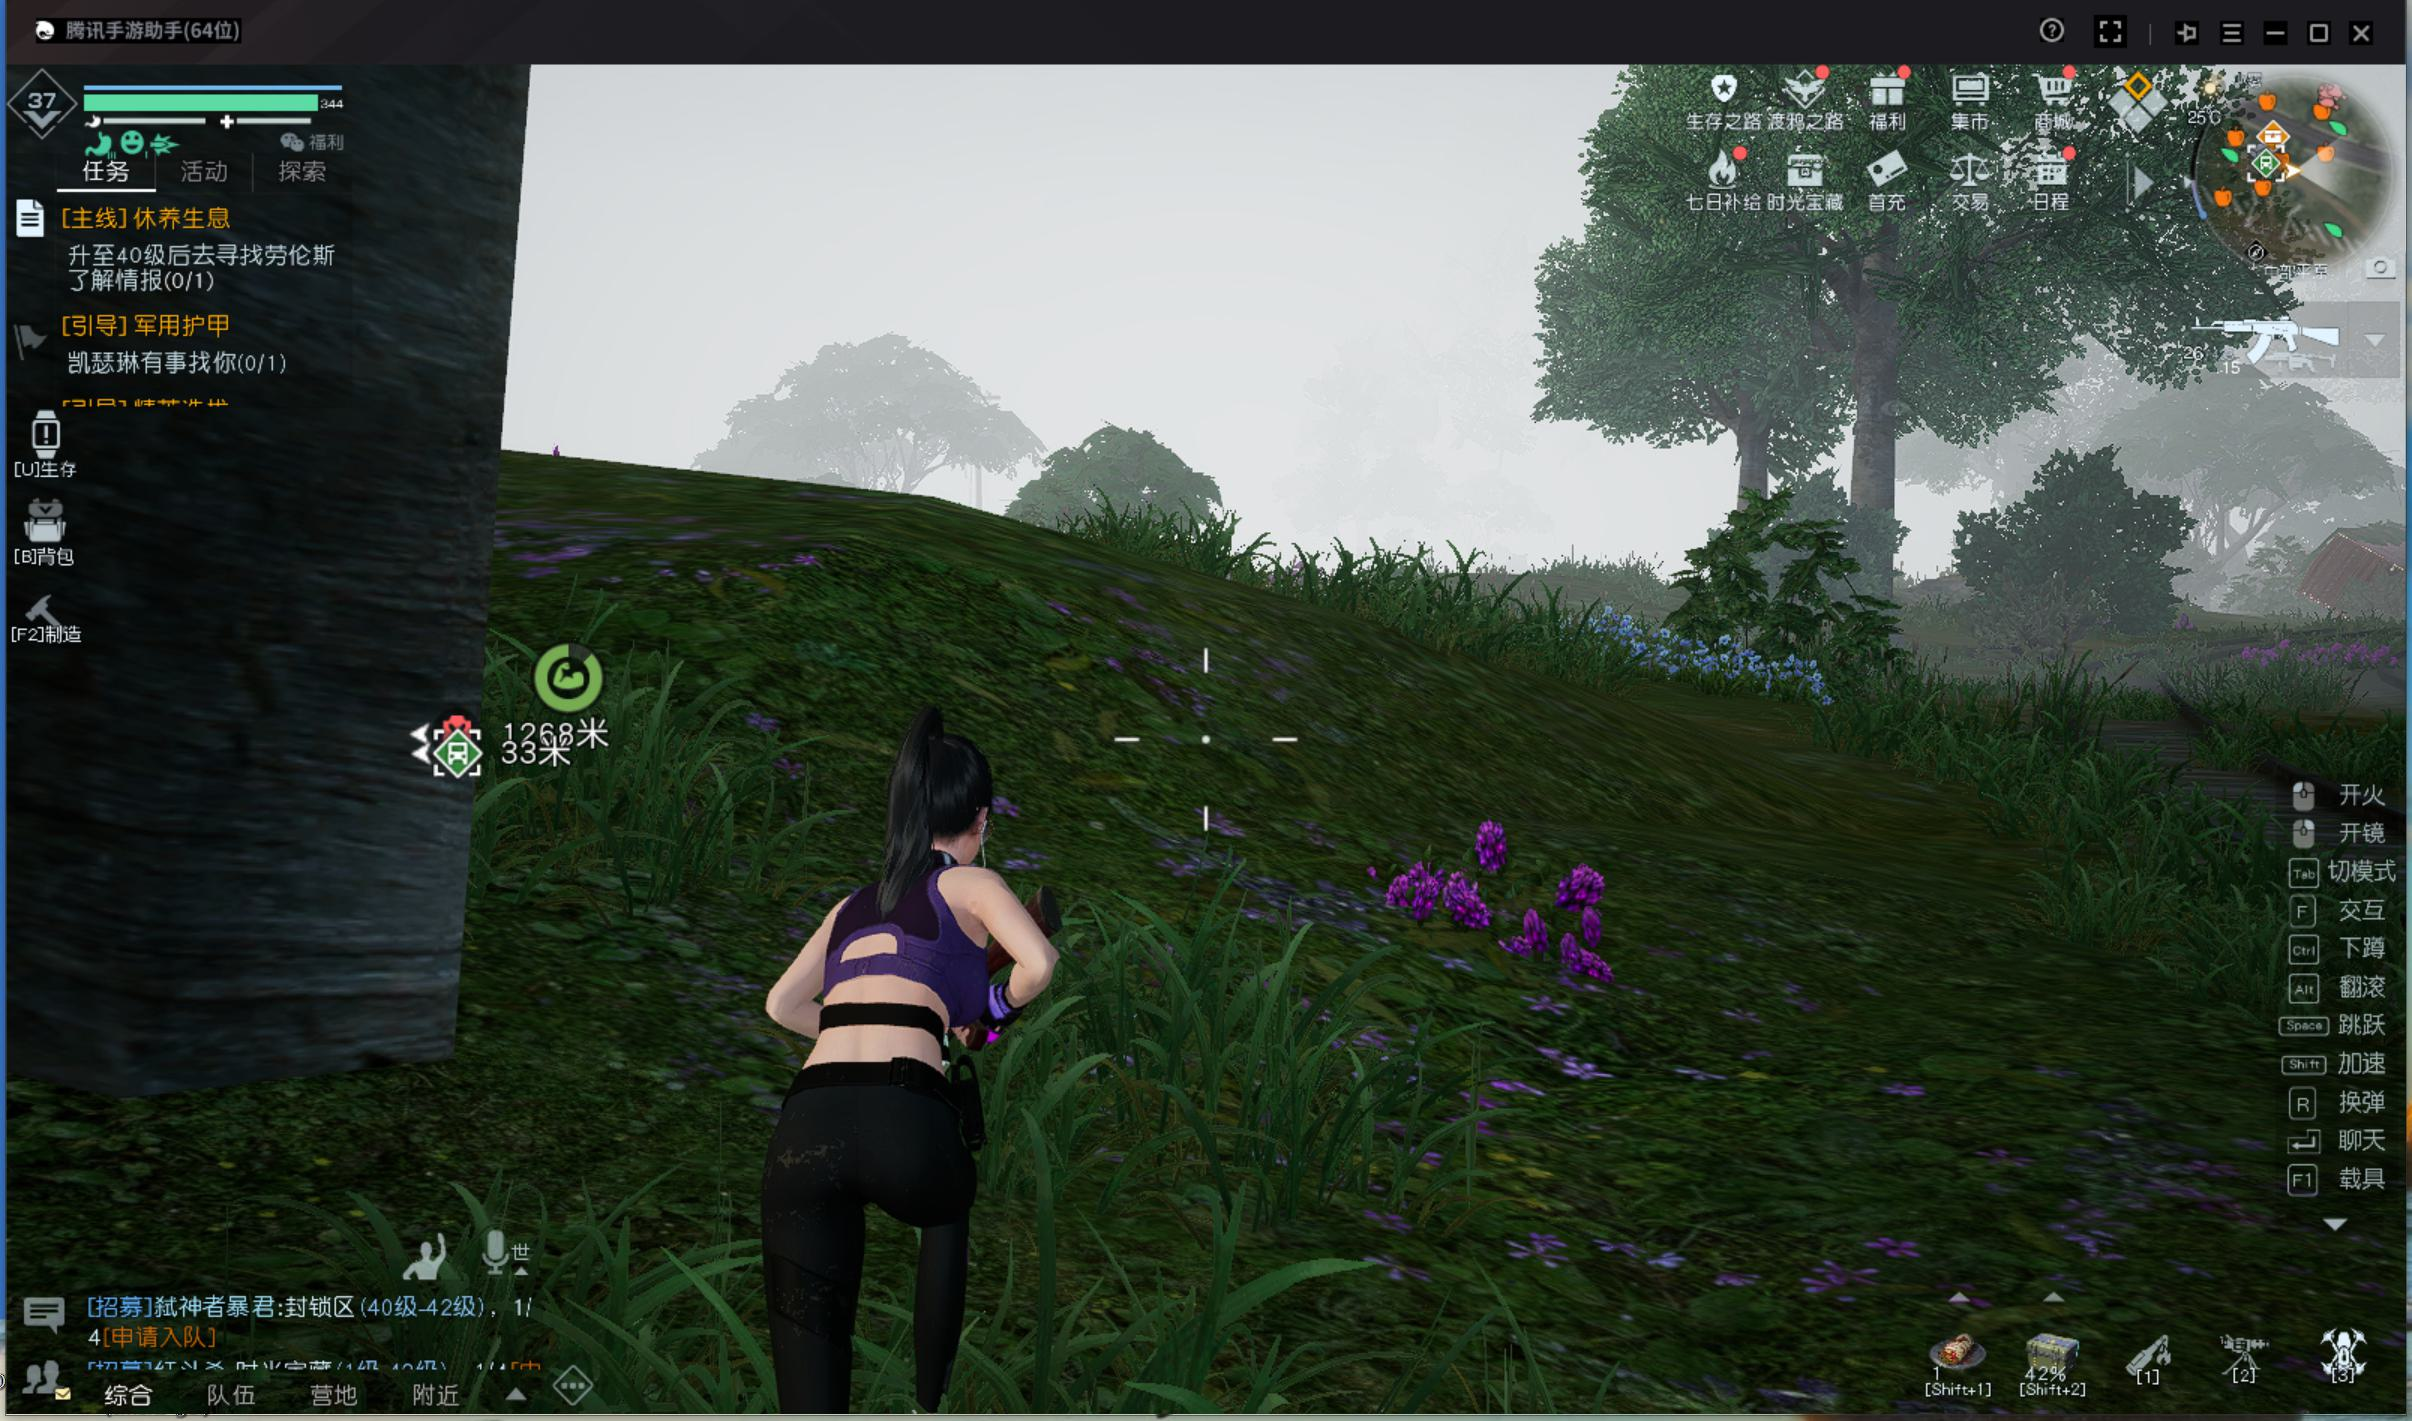tree: (1823, 416, 1920, 621), (1715, 440, 1784, 629)
